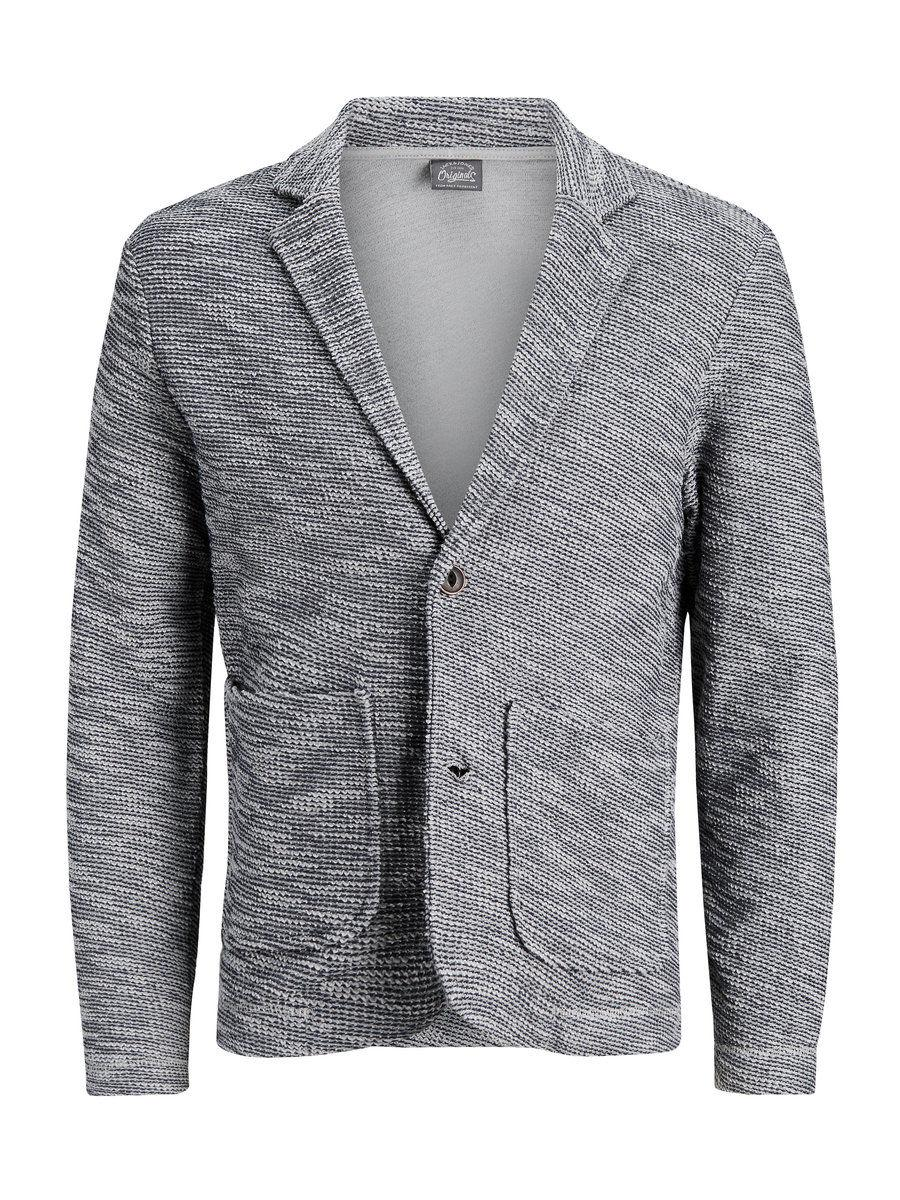teeshirt: (34, 78, 849, 1120)
